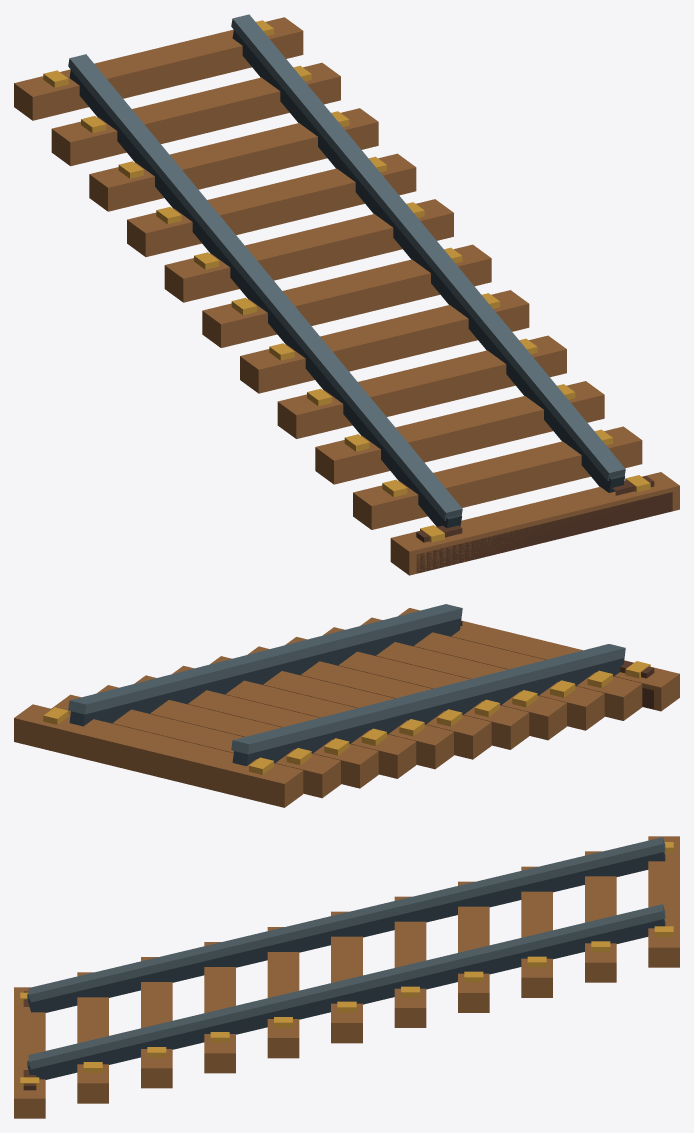
The model's file is rail-ramp.glb.
3 renders of one model, top to bottom at view 1: azimuth 30°, elevation 25°; view 2: azimuth 150°, elevation 25°; view 3: azimuth 270°, elevation 25°, orthographic. The views are drawn at different scales.
Parts seen in each view (by area): view 1: rail-ramp; view 2: rail-ramp; view 3: rail-ramp.
Part boxes in pixels (<box>): rail-ramp: <box>14,14,679,575</box>; rail-ramp: <box>14,604,679,807</box>; rail-ramp: <box>14,836,679,1118</box>.
Size of the model in its own units: 1.66 by 1.31 by 4.2.
